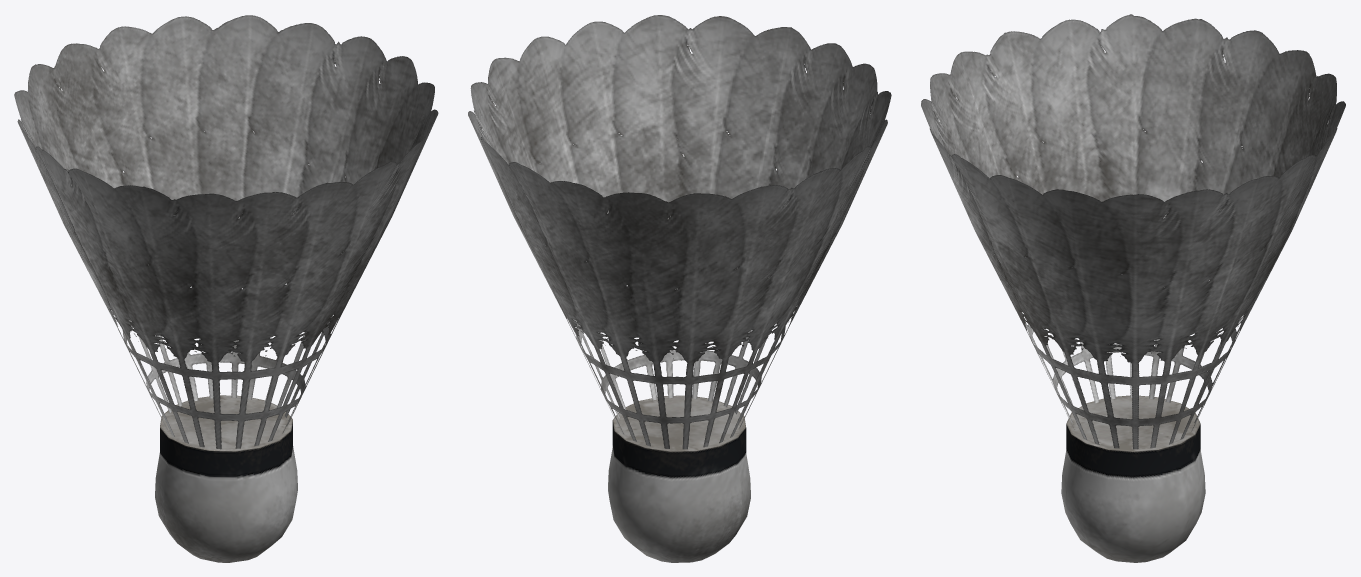
Rendered from shuttlecock.fbx.
3 views of the same model, side by side, from view 1: azimuth 30°, elevation 25°; view 2: azimuth 150°, elevation 25°; view 3: azimuth 270°, elevation 25° (orthographic).
Visible parts, largest first — view 1: shuttlecock; view 2: shuttlecock; view 3: shuttlecock.
Part boxes in pixels (x1,y1,x2,y2): shuttlecock: [14, 15, 438, 562]; shuttlecock: [468, 15, 891, 562]; shuttlecock: [921, 14, 1345, 562].
Size of the model in its own units: 6.67 by 7.81 by 6.67.
